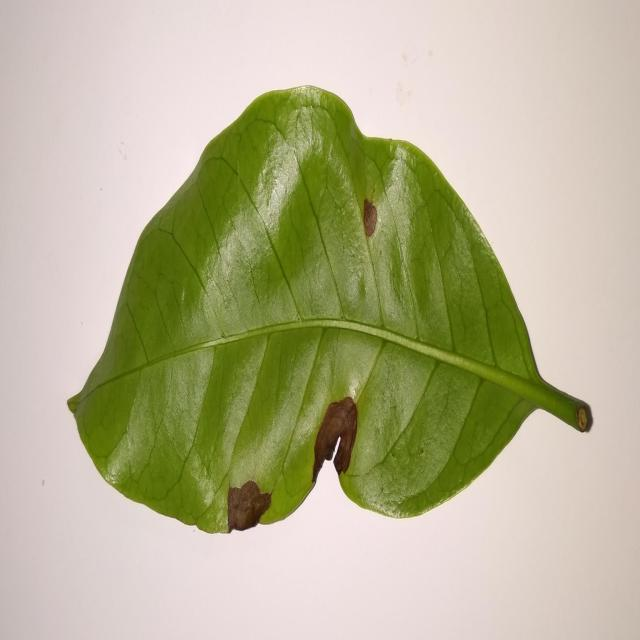Enfermedad-Antracnosis: (65, 86, 594, 537)
